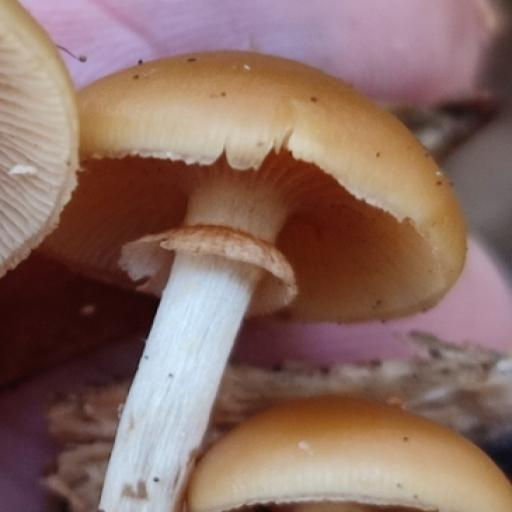mushroom: (65, 42, 483, 392)
